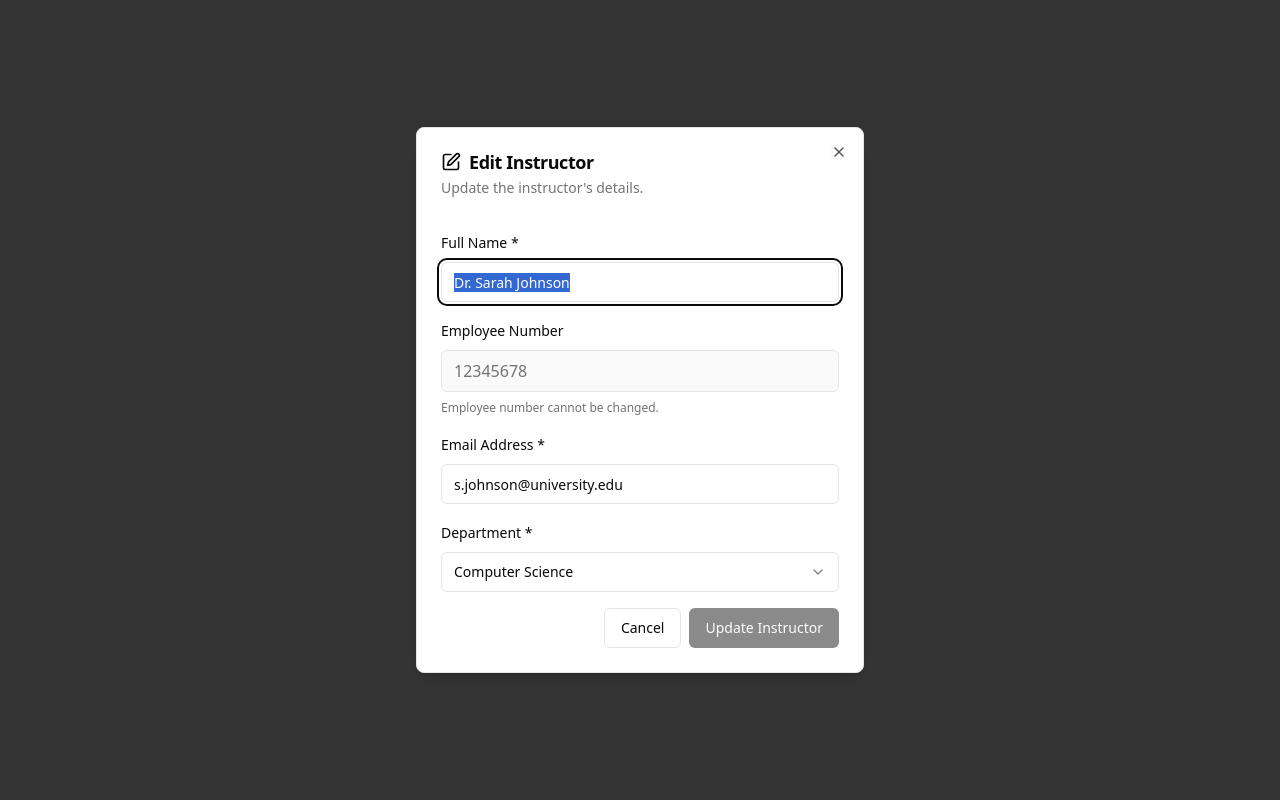
Test case: EditInstructorModal › prevents submission with validation errors
Make invalid changes
Clear the field showing "Dr. Sarah Johnson" at (640, 282), box [441,262,839,302]
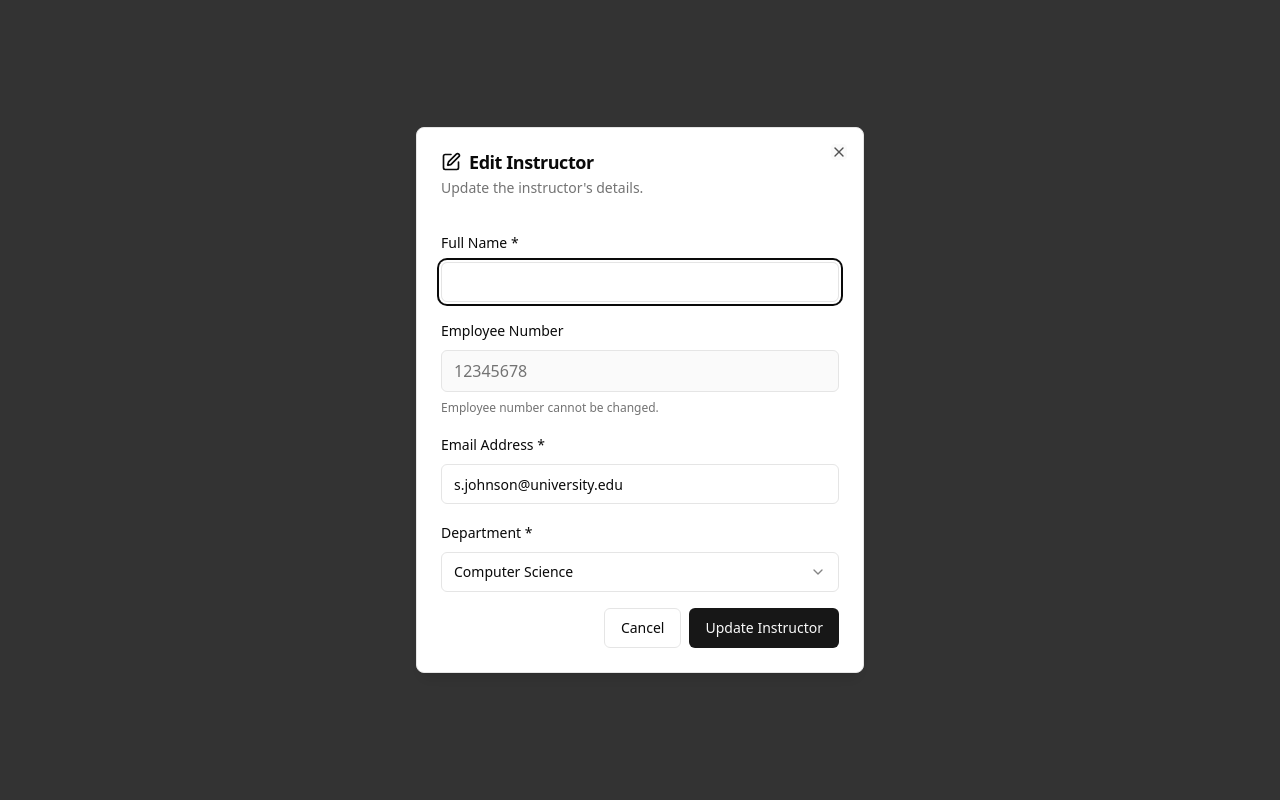
Clear the field showing "s.johnson@university.edu" at (640, 484), box [441,464,839,504]
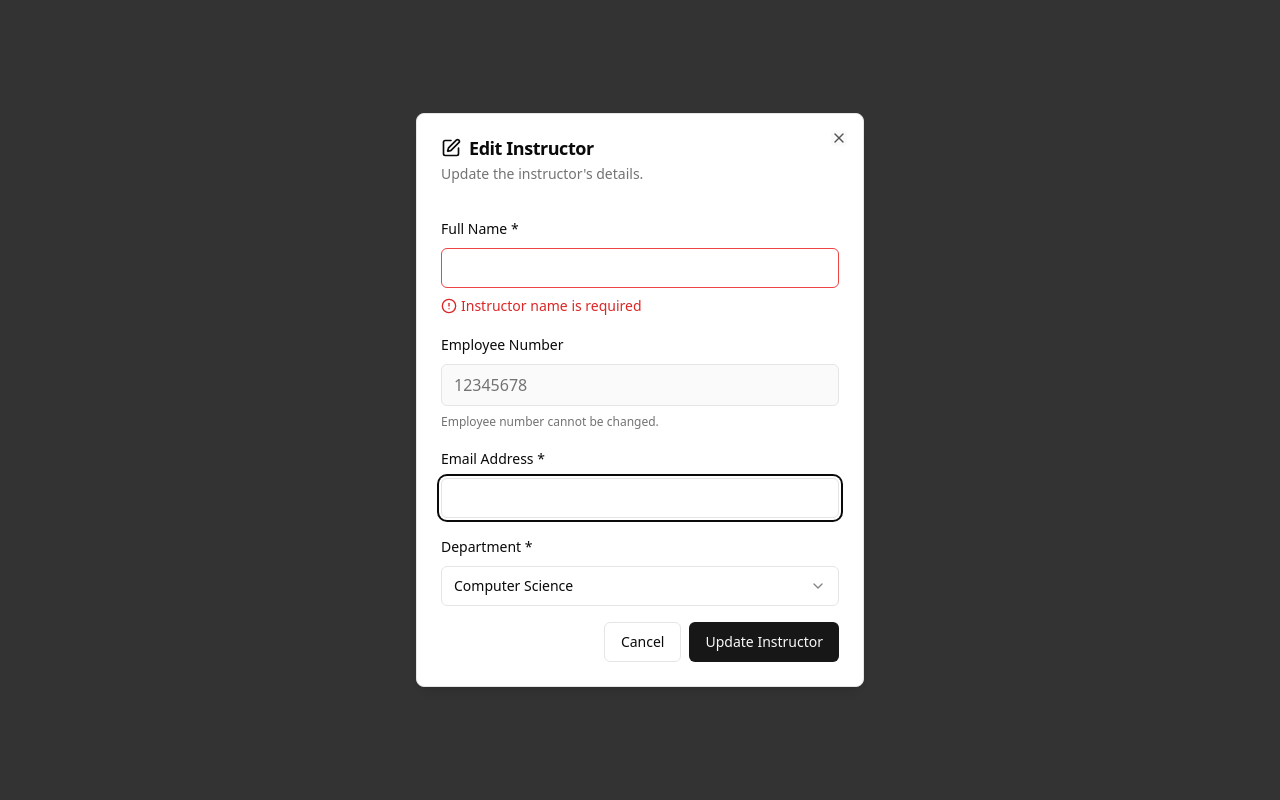
Type "invalid-email" into the field showing "s.johnson@university.edu" at (640, 498), box [441,478,839,518]
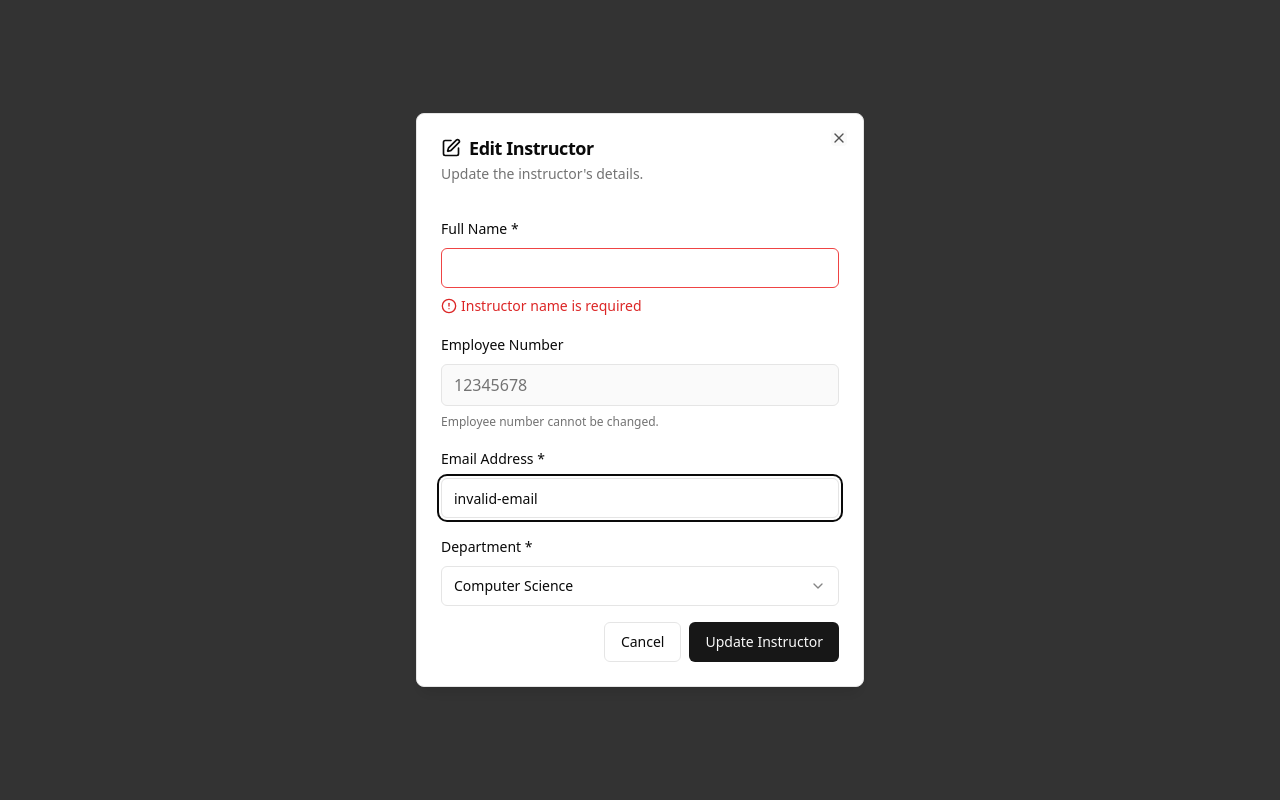
Try to submit
Click the button "Update Instructor" at (764, 642), box [690,622,839,662]
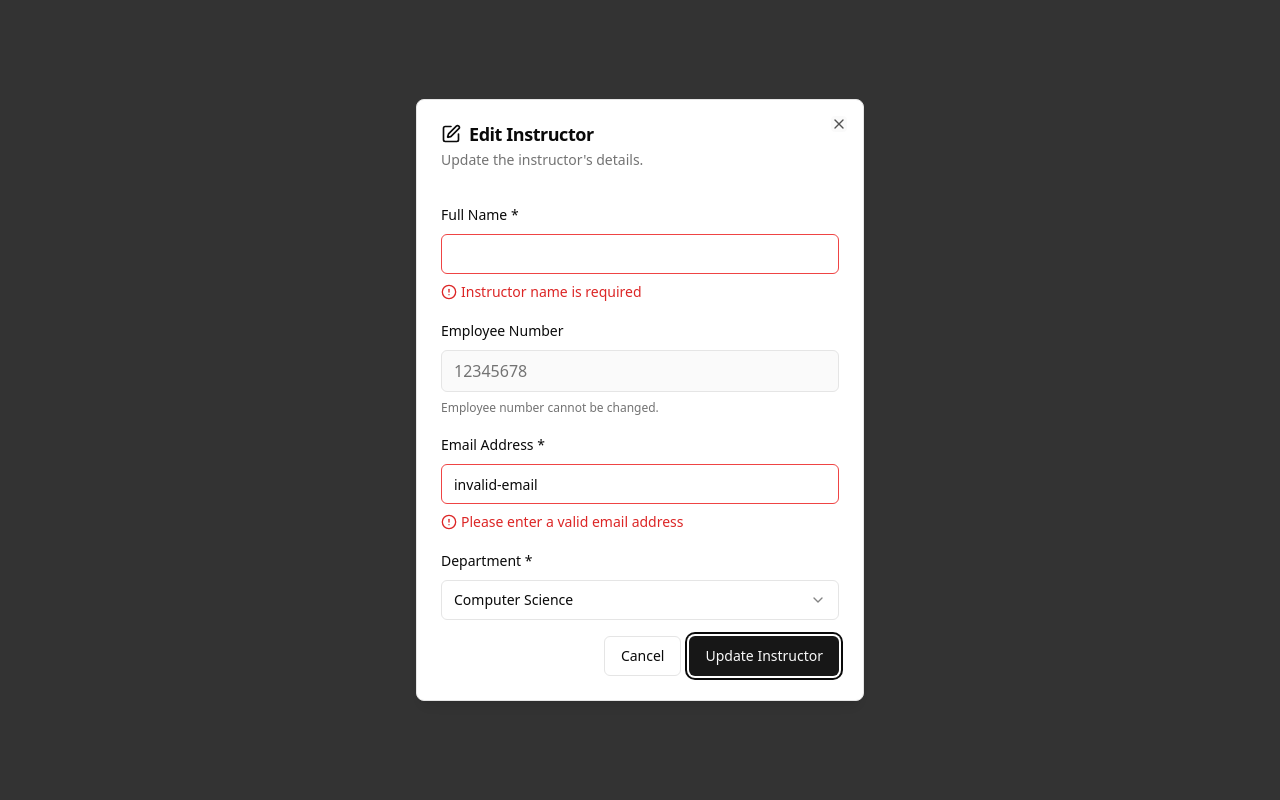
Expected: the text "Instructor name is required" is shown, [441,282,642,301]
Expected: the text "Please enter a valid email address" is shown, [441,512,684,531]
